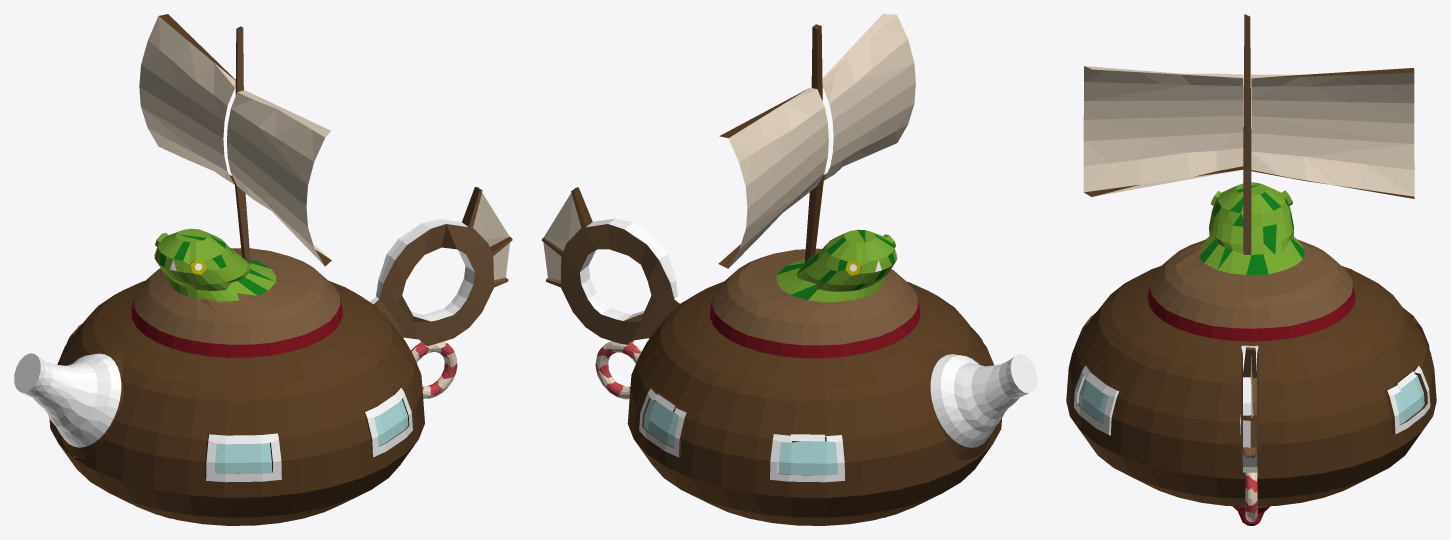
Rendered from theepot1.0.fbx.
3 renders of one model, left to right at view 1: azimuth 30°, elevation 25°; view 2: azimuth 150°, elevation 25°; view 3: azimuth 270°, elevation 25°, orthographic.
Visible parts, largest first — view 1: Torus.002; view 2: Torus.002; view 3: Torus.002.
Boxes of the visible parts, x1=… form: Torus.002: x1=14, y1=14, x2=512, y2=525; Torus.002: x1=541, y1=14, x2=1037, y2=525; Torus.002: x1=1066, y1=14, x2=1436, y2=525.
Bounding box in the file's own units: 3.78 × 3.48 × 2.51.
